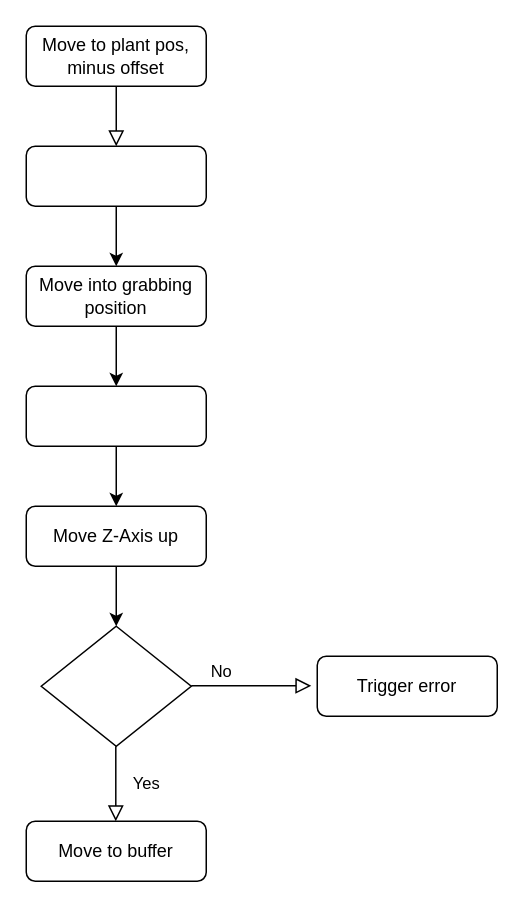
The diagram is 524 pixels wide and 908 high, and some of its shapes have lost their labels. The shapes that lost their labels are listed below. From the top down, each one's box as (x1, y1, x2, y2) in pixels, then its label:
(25, 145, 206, 206): Move Z-Axis down
(25, 385, 206, 446): Grip plant
(40, 625, 191, 746): Plants in gripper
